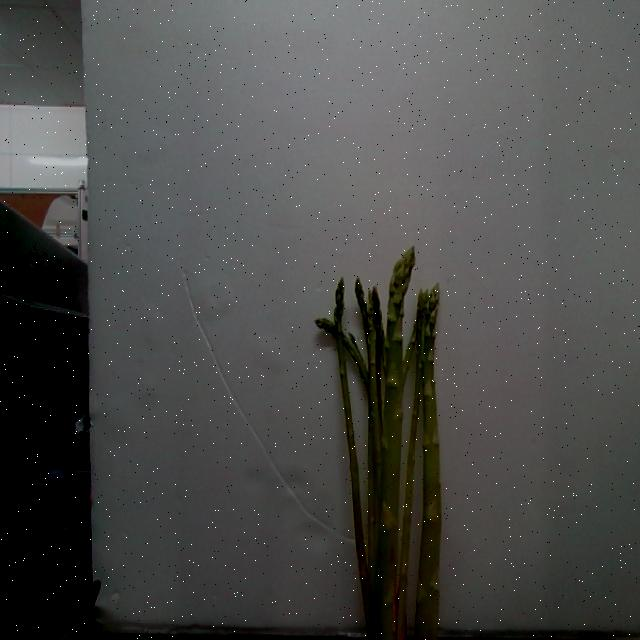aspargus: (371, 245, 417, 640)
